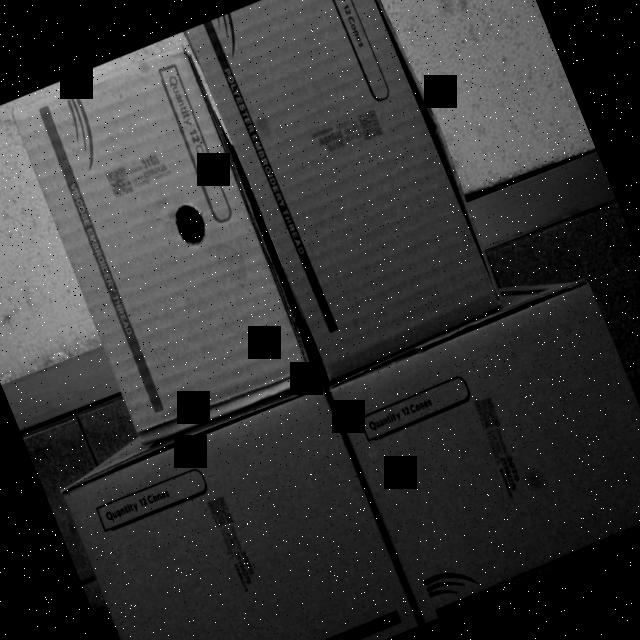box: (7, 42, 316, 444), (185, 0, 511, 381), (323, 272, 640, 623), (54, 382, 421, 640)
